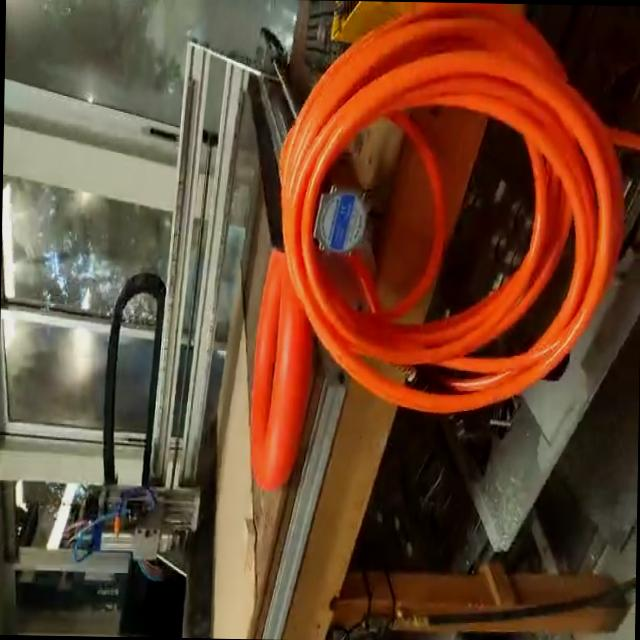note: (248, 240, 315, 493)
